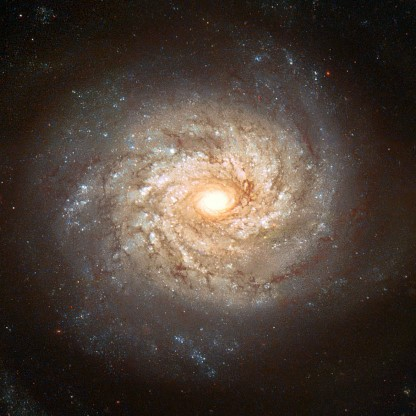NGC 3982: (52, 66, 363, 352)
